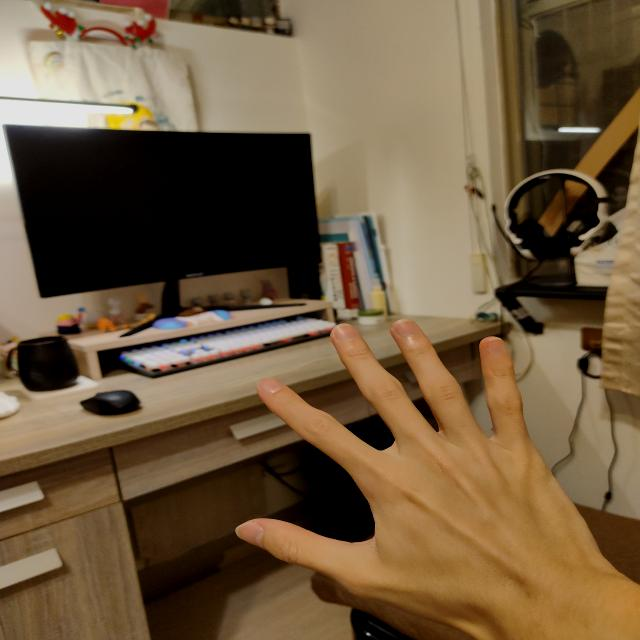no_glove: (231, 311, 613, 640)
